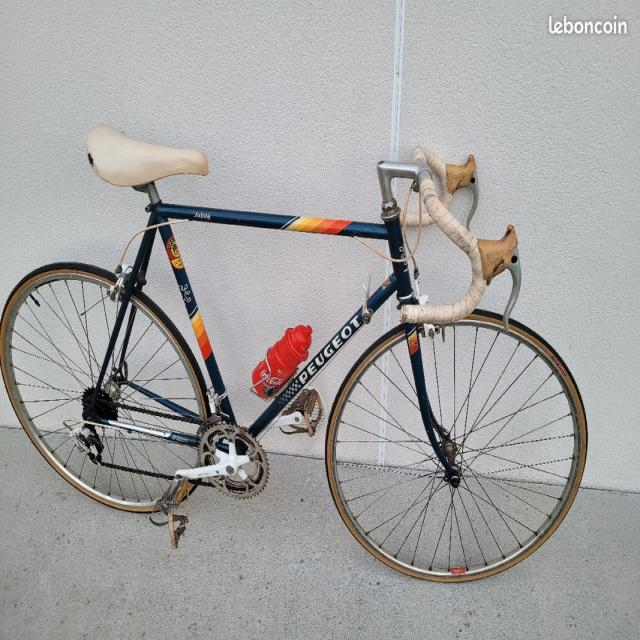Bike: (0, 126, 586, 581)
